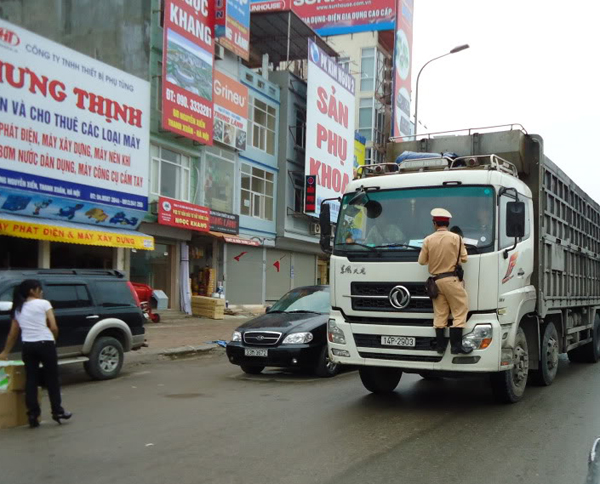police: (418, 205, 476, 357)
